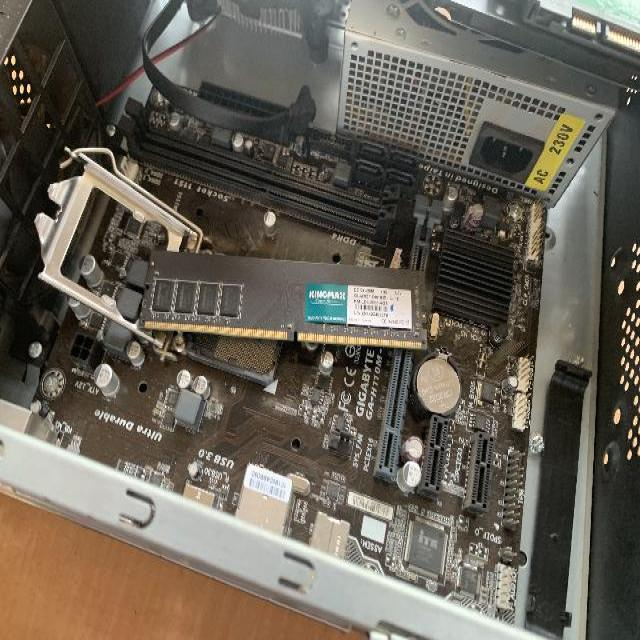Mainboard: (24, 138, 568, 640)
RAM: (136, 243, 428, 349)
